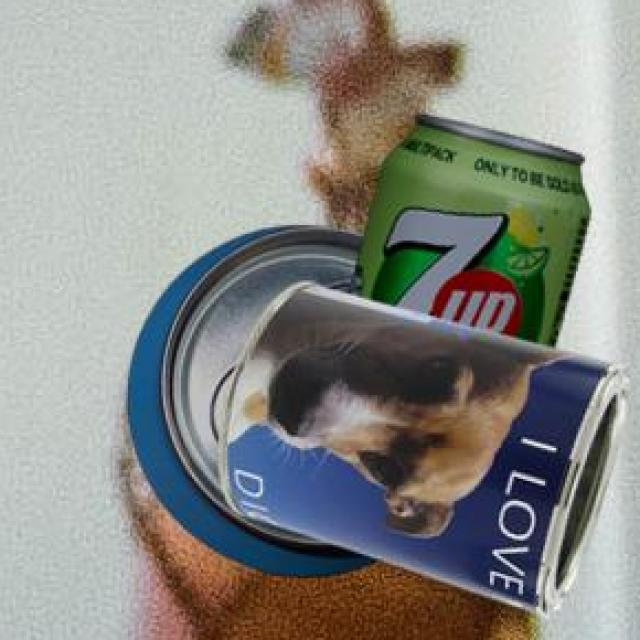logam: (222, 286, 632, 623), (131, 228, 383, 582), (352, 118, 593, 352)
